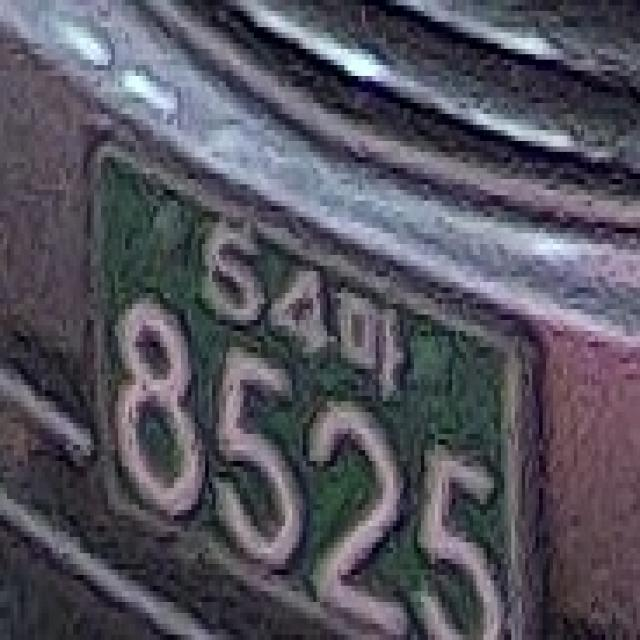2: (306, 390, 410, 640)
4: (264, 250, 334, 364)
5: (410, 428, 526, 640), (202, 347, 302, 570), (198, 222, 268, 326)
8: (104, 293, 198, 526)
license_plate: (66, 135, 563, 640)
ma: (337, 288, 414, 402)
